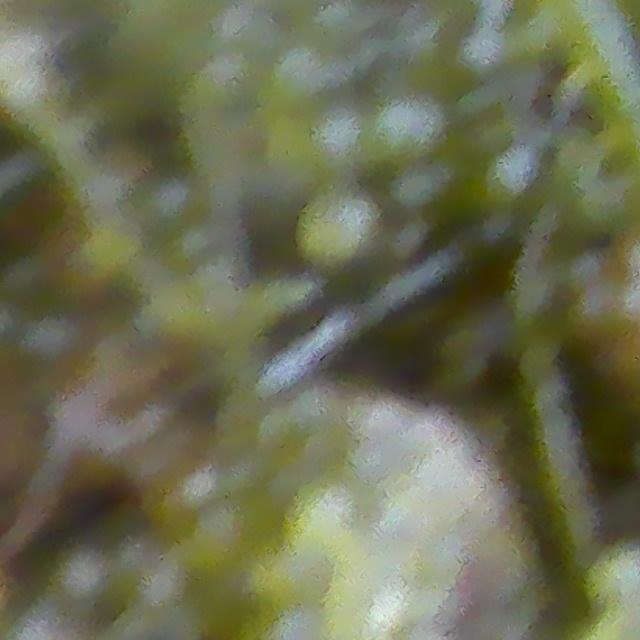SeaGrape: (299, 188, 381, 267)
